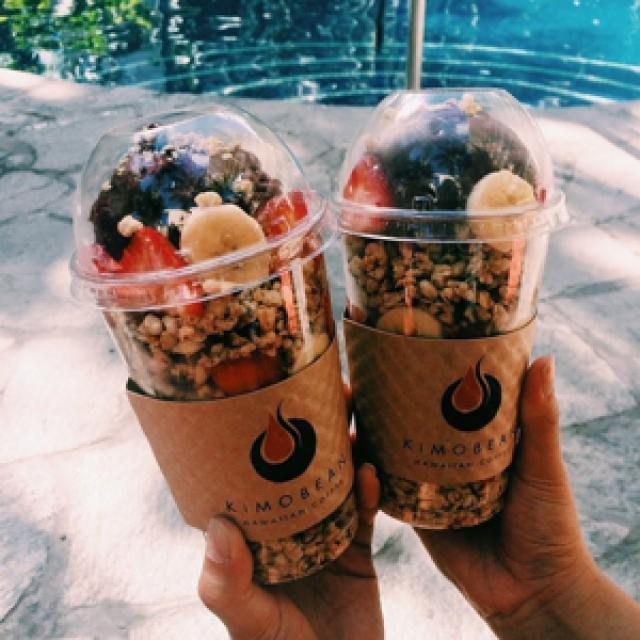plastic cup: (62, 98, 363, 593), (333, 81, 572, 538)
